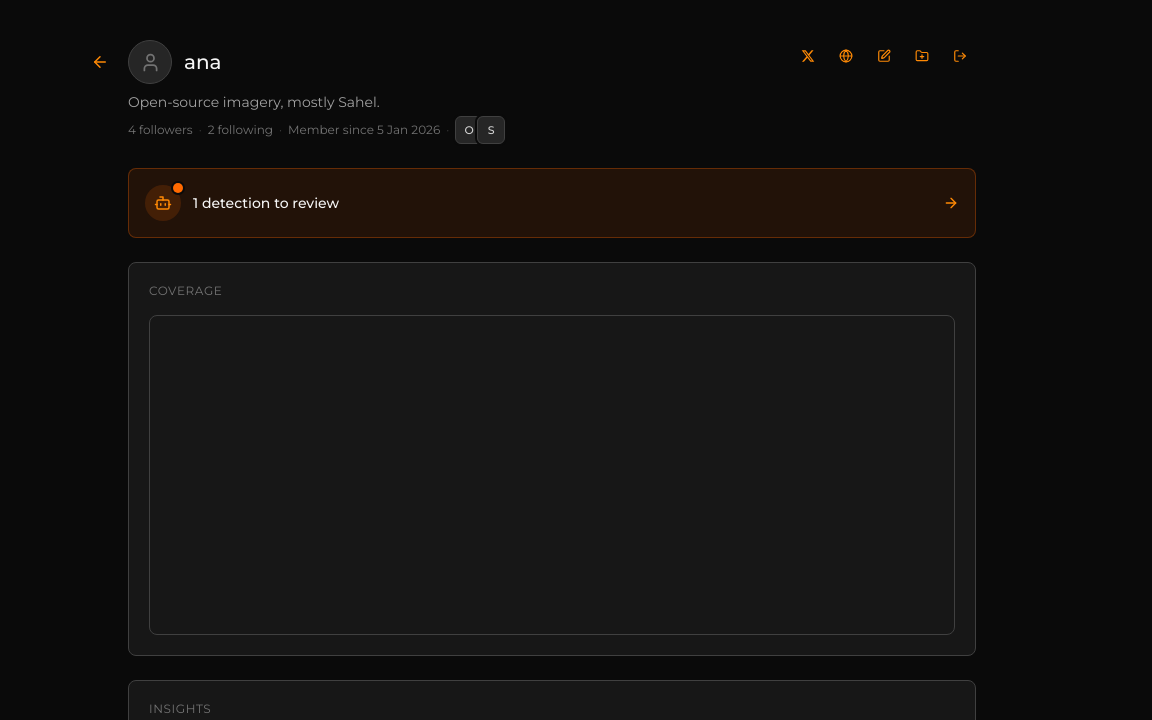
it: public profile edit mode › collapses the page to the fields: the bio, then the linked-account inputs
Expected: the heading "Insights" is shown, [149,701,211,716]
Click the button named "Edit profile": (884, 56) [868,40,900,72]
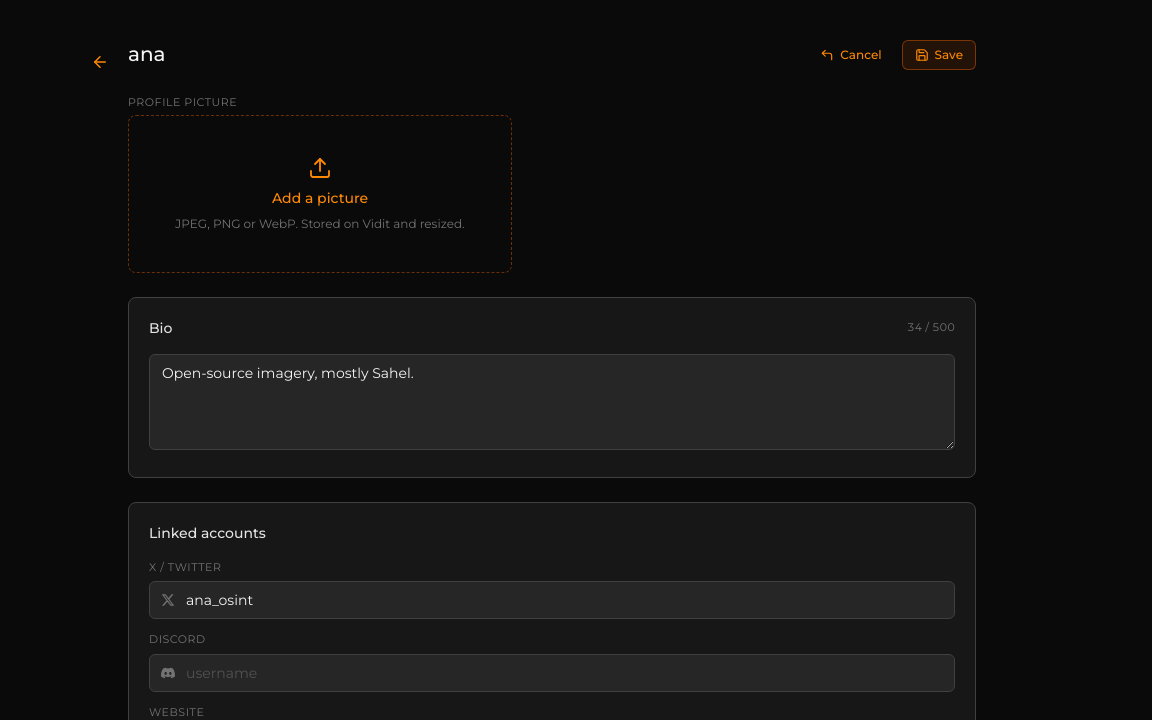
Now the text "Profile picture" is shown, box [128,95,237,109]
Now the field labelled "X / Twitter" holds "ana_osint", box [149,581,955,619]
Now the button "Save" is shown, box [902,40,976,70]
